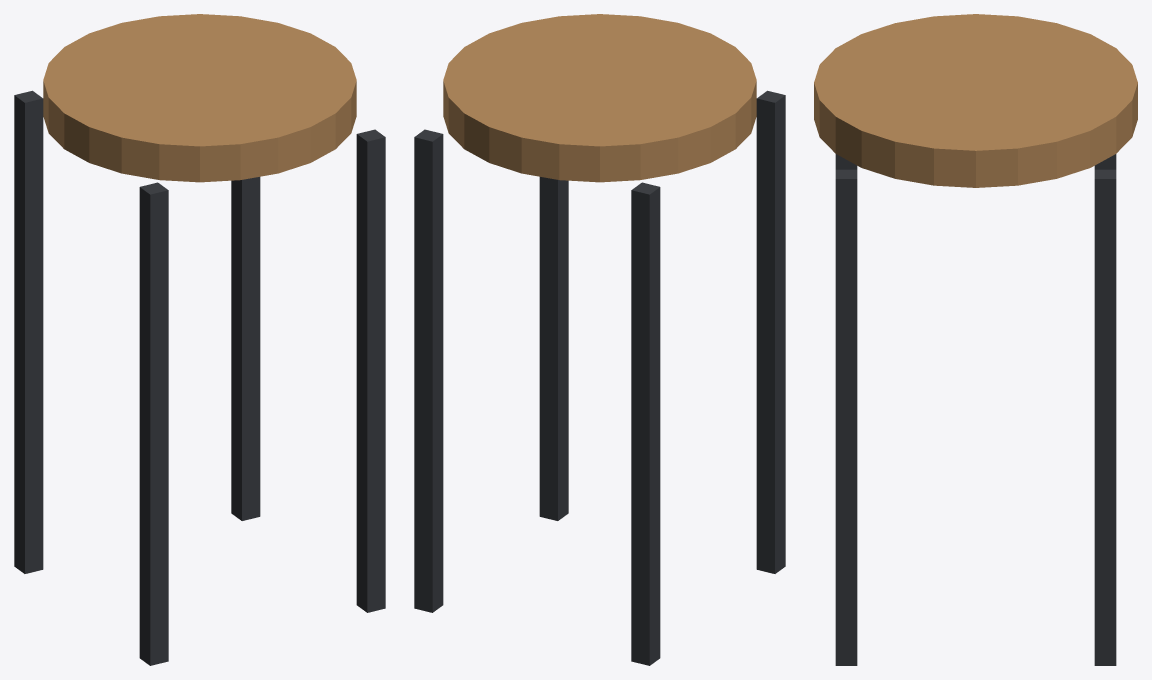
File: stool_cafe_round_24.glb
3 renders of one model, left to right at view 1: azimuth 30°, elevation 25°; view 2: azimuth 150°, elevation 25°; view 3: azimuth 270°, elevation 25°, orthographic. The views are drawn at different scales.
Size of the model in its own units: 0.3556 by 0.635 by 0.3556.
